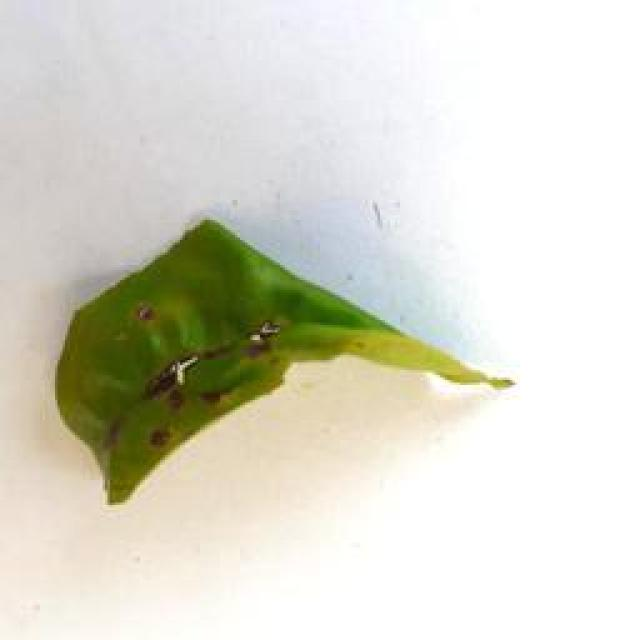Helopeltis: (52, 216, 510, 518)
